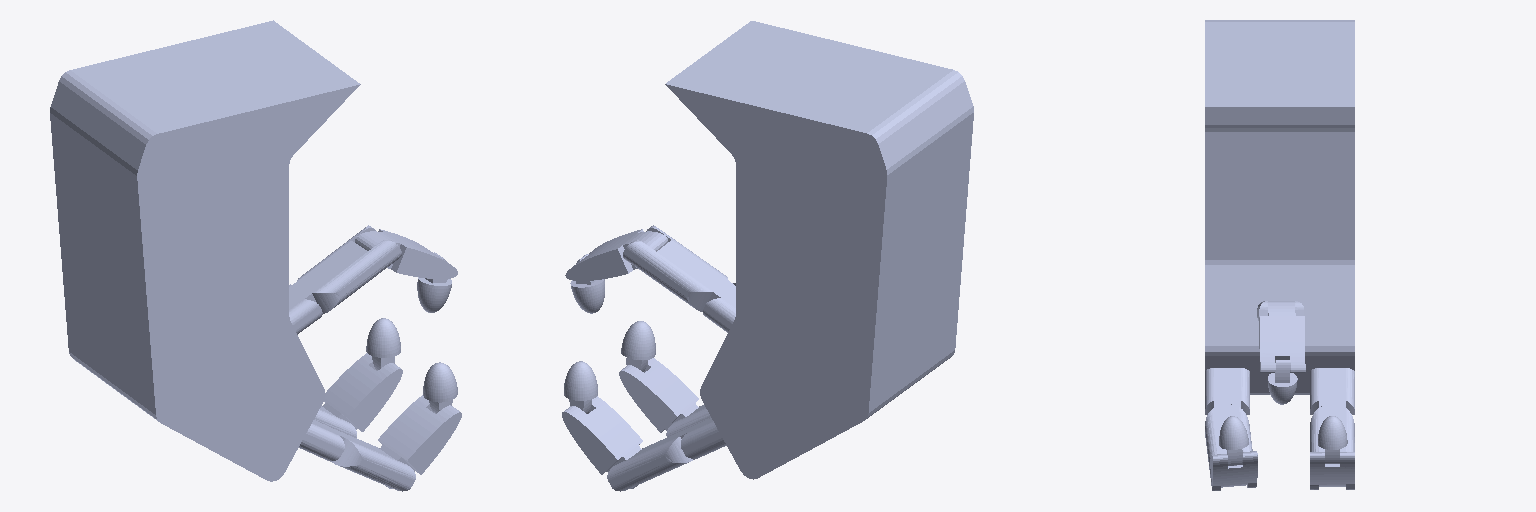
URDF robot description (HandAssembly):
<?xml version="1.0" encoding="utf-8"?>
<!-- This URDF was automatically created by SolidWorks to URDF Exporter! Originally created by [author] ([email redacted]) 
     Commit Version: 1.6.0-4-g7f85cfe  Build Version: 1.6.7995.38578
     For more information, please see http://wiki.ros.org/sw_urdf_exporter -->
<robot
  name="HandAssembly">
  <link
    name="base_link">
    <inertial>
      <origin
        xyz="-0.093667 -1.6349E-10 -0.53523"
        rpy="0 0 0" />
      <mass
        value="279.34" />
      <inertia
        ixx="34.928"
        ixy="8.1329E-09"
        ixz="2.0701"
        iyy="35.714"
        iyz="-2.1355E-09"
        izz="12.242" />
    </inertial>
    <visual>
      <origin
        xyz="0 0 0"
        rpy="0 0 0" />
      <geometry>
        <mesh
          filename="package://HandAssembly/meshes/base_link.STL" />
      </geometry>
      <material
        name="">
        <color
          rgba="0.79216 0.81961 0.93333 1" />
      </material>
    </visual>
    <collision>
      <origin
        xyz="0 0 0"
        rpy="0 0 0" />
      <geometry>
        <mesh
          filename="package://HandAssembly/meshes/base_link.STL" />
      </geometry>
    </collision>
  </link>
  <link
    name="finger_1">
    <inertial>
      <origin
        xyz="0.057895 0.0060615 0.04"
        rpy="0 0 0" />
      <mass
        value="2.6229" />
      <inertia
        ixx="0.0060931"
        ixy="-0.00097012"
        ixz="3.6127E-08"
        iyy="0.015257"
        iyz="-1.6814E-07"
        izz="0.018807" />
    </inertial>
    <visual>
      <origin
        xyz="0 0 0"
        rpy="0 0 0" />
      <geometry>
        <mesh
          filename="package://HandAssembly/meshes/finger_1.STL" />
      </geometry>
      <material
        name="">
        <color
          rgba="0.79216 0.81961 0.93333 1" />
      </material>
    </visual>
    <collision>
      <origin
        xyz="0 0 0"
        rpy="0 0 0" />
      <geometry>
        <mesh
          filename="package://HandAssembly/meshes/finger_1.STL" />
      </geometry>
    </collision>
  </link>
  <joint
    name="fin1"
    type="revolute">
    <origin
      xyz="0.30864 -0.175 -1.2226"
      rpy="0 0.58249 0" />
    <parent
      link="base_link" />
    <child
      link="finger_1" />
    <axis
      xyz="0 0 1" />
    <limit
      lower="0"
      upper="2"
      effort="0"
      velocity="0" />
  </joint>
  <link
    name="finger_1_1">
    <inertial>
      <origin
        xyz="0.083387 -0.070553 1.3914E-07"
        rpy="0 0 0" />
      <mass
        value="2.3997" />
      <inertia
        ixx="0.0094802"
        ixy="0.0052724"
        ixz="1.8644E-08"
        iyy="0.011251"
        iyz="-1.3922E-08"
        izz="0.012658" />
    </inertial>
    <visual>
      <origin
        xyz="0 0 0"
        rpy="0 0 0" />
      <geometry>
        <mesh
          filename="package://HandAssembly/meshes/finger_1_1.STL" />
      </geometry>
      <material
        name="">
        <color
          rgba="0.79216 0.81961 0.93333 1" />
      </material>
    </visual>
    <collision>
      <origin
        xyz="0 0 0"
        rpy="0 0 0" />
      <geometry>
        <mesh
          filename="package://HandAssembly/meshes/finger_1_1.STL" />
      </geometry>
    </collision>
  </link>
  <joint
    name="fin1_1"
    type="revolute">
    <origin
      xyz="0.18245 0.019102 0.034754"
      rpy="-1.5708 -0.57999 0.10432" />
    <parent
      link="finger_1" />
    <child
      link="finger_1_1" />
    <axis
      xyz="0 0 -1" />
    <limit
      lower="0"
      upper="2"
      effort="0"
      velocity="0" />
  </joint>
  <link
    name="finger_1_1_1">
    <inertial>
      <origin
        xyz="-0.004652 -0.062776 7.675E-09"
        rpy="0 0 0" />
      <mass
        value="0.67086" />
      <inertia
        ixx="0.0012103"
        ixy="-4.6906E-05"
        ixz="-1.9006E-11"
        iyy="0.00058076"
        iyz="-6.0201E-10"
        izz="0.0012061" />
    </inertial>
    <visual>
      <origin
        xyz="0 0 0"
        rpy="0 0 0" />
      <geometry>
        <mesh
          filename="package://HandAssembly/meshes/finger_1_1_1.STL" />
      </geometry>
      <material
        name="">
        <color
          rgba="0.79216 0.81961 0.93333 1" />
      </material>
    </visual>
    <collision>
      <origin
        xyz="0 0 0"
        rpy="0 0 0" />
      <geometry>
        <mesh
          filename="package://HandAssembly/meshes/finger_1_1_1.STL" />
      </geometry>
    </collision>
  </link>
  <joint
    name="fin1_1_1"
    type="revolute">
    <origin
      xyz="0.17907 -0.1614 0"
      rpy="0 0 0" />
    <parent
      link="finger_1_1" />
    <child
      link="finger_1_1_1" />
    <axis
      xyz="0 0 1" />
    <limit
      lower="0"
      upper="2"
      effort="0"
      velocity="0" />
  </joint>
  <link
    name="finger_2">
    <inertial>
      <origin
        xyz="0.058184 0.0017727 0.04"
        rpy="0 0 0" />
      <mass
        value="2.6229" />
      <inertia
        ixx="0.0060004"
        ixy="-0.00028507"
        ixz="-6.0758E-08"
        iyy="0.01535"
        iyz="-1.8252E-07"
        izz="0.018806" />
    </inertial>
    <visual>
      <origin
        xyz="0 0 0"
        rpy="0 0 0" />
      <geometry>
        <mesh
          filename="package://HandAssembly/meshes/finger_2.STL" />
      </geometry>
      <material
        name="">
        <color
          rgba="0.79216 0.81961 0.93333 1" />
      </material>
    </visual>
    <collision>
      <origin
        xyz="0 0 0"
        rpy="0 0 0" />
      <geometry>
        <mesh
          filename="package://HandAssembly/meshes/finger_2.STL" />
      </geometry>
    </collision>
  </link>
  <joint
    name="fin2"
    type="revolute">
    <origin
      xyz="0.38255 0 -0.78051"
      rpy="0 -0.43641 0" />
    <parent
      link="base_link" />
    <child
      link="finger_2" />
    <axis
      xyz="0 0 1" />
    <limit
      lower="0"
      upper="2"
      effort="0"
      velocity="0" />
  </joint>
  <link
    name="finger_2_1">
    <inertial>
      <origin
        xyz="0.09843 0.047359 1.136E-07"
        rpy="0 0 0" />
      <mass
        value="2.3997" />
      <inertia
        ixx="0.0070293"
        ixy="-0.0041775"
        ixz="2.1588E-08"
        iyy="0.013702"
        iyz="1.1704E-08"
        izz="0.012658" />
    </inertial>
    <visual>
      <origin
        xyz="0 0 0"
        rpy="0 0 0" />
      <geometry>
        <mesh
          filename="package://HandAssembly/meshes/finger_2_1.STL" />
      </geometry>
      <material
        name="">
        <color
          rgba="0.79216 0.81961 0.93333 1" />
      </material>
    </visual>
    <collision>
      <origin
        xyz="0 0 0"
        rpy="0 0 0" />
      <geometry>
        <mesh
          filename="package://HandAssembly/meshes/finger_2_1.STL" />
      </geometry>
    </collision>
  </link>
  <joint
    name="fin2_1"
    type="revolute">
    <origin
      xyz="0.18145 0.0055277 0.044234"
      rpy="-1.5708 0.43624 0.030455" />
    <parent
      link="finger_2" />
    <child
      link="finger_2_1" />
    <axis
      xyz="0 0 -1" />
    <limit
      lower="0"
      upper="2"
      effort="0"
      velocity="0" />
  </joint>
  <link
    name="finger_2_1_1">
    <inertial>
      <origin
        xyz="-0.010621 0.062046 8.2758E-09"
        rpy="0 0 0" />
      <mass
        value="0.67086" />
      <inertia
        ixx="0.0011956"
        ixy="0.00010585"
        ixz="4.975E-11"
        iyy="0.00059541"
        iyz="-3.6033E-10"
        izz="0.0012061" />
    </inertial>
    <visual>
      <origin
        xyz="0 0 0"
        rpy="0 0 0" />
      <geometry>
        <mesh
          filename="package://HandAssembly/meshes/finger_2_1_1.STL" />
      </geometry>
      <material
        name="">
        <color
          rgba="0.79216 0.81961 0.93333 1" />
      </material>
    </visual>
    <collision>
      <origin
        xyz="0 0 0"
        rpy="0 0 0" />
      <geometry>
        <mesh
          filename="package://HandAssembly/meshes/finger_2_1_1.STL" />
      </geometry>
    </collision>
  </link>
  <joint
    name="fin2_1_1"
    type="revolute">
    <origin
      xyz="0.21061 0.11129 0"
      rpy="0 0 0" />
    <parent
      link="finger_2_1" />
    <child
      link="finger_2_1_1" />
    <axis
      xyz="0 0 1" />
    <limit
      lower="0"
      upper="2"
      effort="0"
      velocity="0" />
  </joint>
  <link
    name="finger_3">
    <inertial>
      <origin
        xyz="0.058211 0.00023091 0.04"
        rpy="0 0 0" />
      <mass
        value="2.6229" />
      <inertia
        ixx="0.0059916"
        ixy="-3.7129E-05"
        ixz="1.5749E-08"
        iyy="0.015359"
        iyz="-1.6961E-07"
        izz="0.018807" />
    </inertial>
    <visual>
      <origin
        xyz="0 0 0"
        rpy="0 0 0" />
      <geometry>
        <mesh
          filename="package://HandAssembly/meshes/finger_3.STL" />
      </geometry>
      <material
        name="">
        <color
          rgba="0.79216 0.81961 0.93333 1" />
      </material>
    </visual>
    <collision>
      <origin
        xyz="0 0 0"
        rpy="0 0 0" />
      <geometry>
        <mesh
          filename="package://HandAssembly/meshes/finger_3.STL" />
      </geometry>
    </collision>
  </link>
  <joint
    name="fin3"
    type="revolute">
    <origin
      xyz="0.30864 0.175 -1.2226"
      rpy="0 0.58249 0" />
    <parent
      link="base_link" />
    <child
      link="finger_3" />
    <axis
      xyz="0 0 1" />
    <limit
      lower="0"
      upper="2"
      effort="0"
      velocity="0" />
  </joint>
  <link
    name="finger_3_1">
    <inertial>
      <origin
        xyz="0.081768 -0.072423 1.9716E-07"
        rpy="0 0 0" />
      <mass
        value="2.3997" />
      <inertia
        ixx="0.0097197"
        ixy="0.005307"
        ixz="1.3311E-09"
        iyy="0.011011"
        iyz="1.5547E-09"
        izz="0.012658" />
    </inertial>
    <visual>
      <origin
        xyz="0 0 0"
        rpy="0 0 0" />
      <geometry>
        <mesh
          filename="package://HandAssembly/meshes/finger_3_1.STL" />
      </geometry>
      <material
        name="">
        <color
          rgba="0.79216 0.81961 0.93333 1" />
      </material>
    </visual>
    <collision>
      <origin
        xyz="0 0 0"
        rpy="0 0 0" />
      <geometry>
        <mesh
          filename="package://HandAssembly/meshes/finger_3_1.STL" />
      </geometry>
    </collision>
  </link>
  <joint
    name="fin3_1"
    type="revolute">
    <origin
      xyz="0.18357 0.000728 0.034717"
      rpy="-1.5708 -0.58248 0.0039657" />
    <parent
      link="finger_3" />
    <child
      link="finger_3_1" />
    <axis
      xyz="0 0 -1" />
    <limit
      lower="0"
      upper="2"
      effort="0"
      velocity="0" />
  </joint>
  <link
    name="finger_3_1_1">
    <inertial>
      <origin
        xyz="0.00039413 -0.062947 8.8667E-09"
        rpy="0 0 0" />
      <mass
        value="0.67086" />
      <inertia
        ixx="0.0012137"
        ixy="3.985E-06"
        ixz="-1.256E-12"
        iyy="0.00057731"
        iyz="3.9831E-10"
        izz="0.0012061" />
    </inertial>
    <visual>
      <origin
        xyz="0 0 0"
        rpy="0 0 0" />
      <geometry>
        <mesh
          filename="package://HandAssembly/meshes/finger_3_1_1.STL" />
      </geometry>
      <material
        name="">
        <color
          rgba="0.79216 0.81961 0.93333 1" />
      </material>
    </visual>
    <collision>
      <origin
        xyz="0 0 0"
        rpy="0 0 0" />
      <geometry>
        <mesh
          filename="package://HandAssembly/meshes/finger_3_1_1.STL" />
      </geometry>
    </collision>
  </link>
  <joint
    name="fin3_1_1"
    type="revolute">
    <origin
      xyz="0.17633 -0.16546 0"
      rpy="0 0 0" />
    <parent
      link="finger_3_1" />
    <child
      link="finger_3_1_1" />
    <axis
      xyz="0 0 -1" />
    <limit
      lower="0"
      upper="2"
      effort="0"
      velocity="0" />
  </joint>
</robot>

--- What the picture shows (computed from the rendered views, not written in the file) ---
3 views of the same robot in one strip: view 1: azimuth 30°, elevation 25°; view 2: azimuth 150°, elevation 25°; view 3: azimuth 270°, elevation 25° (orthographic).
Robot: HandAssembly — 10 links, 9 joints (9 revolute); root link base_link; default pose: all joints at 0.
Links seen in each view (by area): view 1: base_link, finger_2, finger_1_1, finger_3_1, finger_1, finger_2_1, finger_3_1_1, finger_1_1_1, finger_2_1_1, finger_3; view 2: base_link, finger_2, finger_3_1, finger_1_1, finger_3, finger_2_1, finger_3_1_1, finger_1_1_1, finger_2_1_1, finger_1; view 3: base_link, finger_2_1, finger_3_1, finger_1_1, finger_1, finger_3, finger_1_1_1, finger_3_1_1, finger_2_1_1.
Boxes of the visible links, bbox=[...] form: base_link: bbox=[50, 20, 360, 481]; finger_2: bbox=[297, 225, 401, 313]; finger_1_1: bbox=[378, 395, 461, 488]; finger_3_1: bbox=[322, 353, 402, 431]; finger_1: bbox=[330, 427, 415, 491]; finger_2_1: bbox=[355, 229, 457, 278]; finger_3_1_1: bbox=[366, 318, 400, 370]; finger_1_1_1: bbox=[423, 362, 457, 413]; finger_2_1_1: bbox=[417, 252, 451, 312]; finger_3: bbox=[314, 406, 356, 437]; base_link: bbox=[665, 21, 973, 479]; finger_2: bbox=[623, 225, 728, 311]; finger_3_1: bbox=[562, 396, 642, 488]; finger_1_1: bbox=[619, 358, 698, 432]; finger_3: bbox=[607, 425, 694, 491]; finger_2_1: bbox=[565, 229, 667, 280]; finger_3_1_1: bbox=[564, 361, 597, 413]; finger_1_1_1: bbox=[621, 321, 655, 371]; finger_2_1_1: bbox=[570, 254, 604, 313]; finger_1: bbox=[666, 405, 710, 436]; base_link: bbox=[1205, 20, 1354, 414]; finger_2_1: bbox=[1259, 301, 1305, 372]; finger_3_1: bbox=[1310, 452, 1354, 486]; finger_1_1: bbox=[1210, 451, 1257, 487]; finger_1: bbox=[1205, 404, 1256, 490]; finger_3: bbox=[1310, 404, 1354, 489]; finger_1_1_1: bbox=[1219, 416, 1248, 465]; finger_3_1_1: bbox=[1318, 416, 1347, 463]; finger_2_1_1: bbox=[1268, 360, 1297, 404].
Bounding box of the posed robot: 1.19 × 0.501 × 1.34 m (x, y, z).
Meshes: 10 distinct files referenced, 10 mesh visuals loaded (10 binary STL).